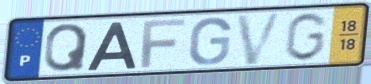A: (84, 20, 139, 72)
F: (139, 17, 187, 69)
G: (282, 11, 330, 63), (186, 16, 233, 67)
Q: (42, 22, 90, 74)
V: (233, 10, 286, 67)
